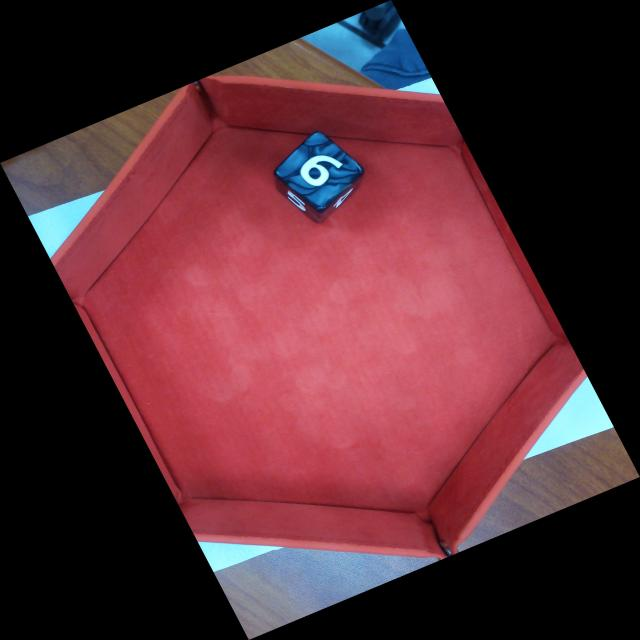dice: (275, 130, 368, 213)
